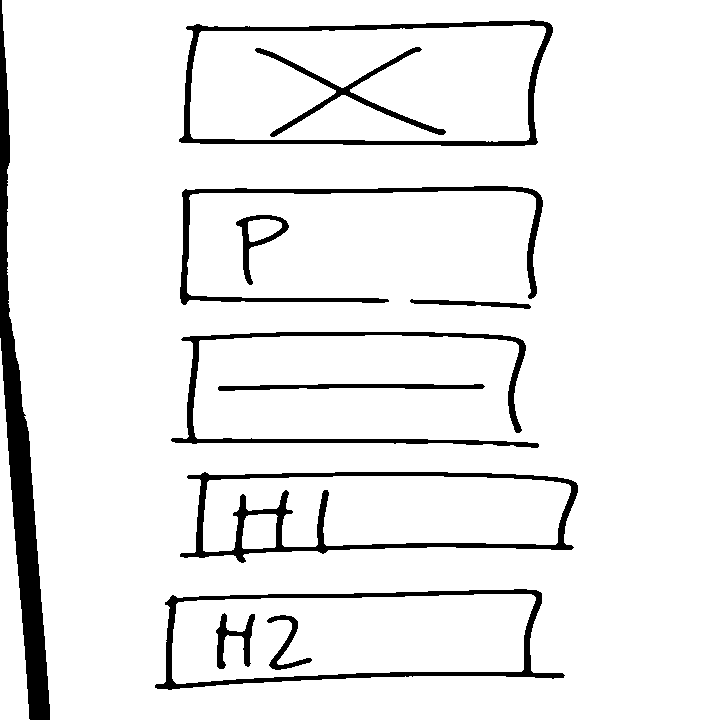button: (168, 326, 546, 462)
heading1: (169, 465, 587, 564)
heading2: (148, 587, 583, 694)
paragraph: (172, 181, 546, 318)
picture: (173, 15, 555, 159)
